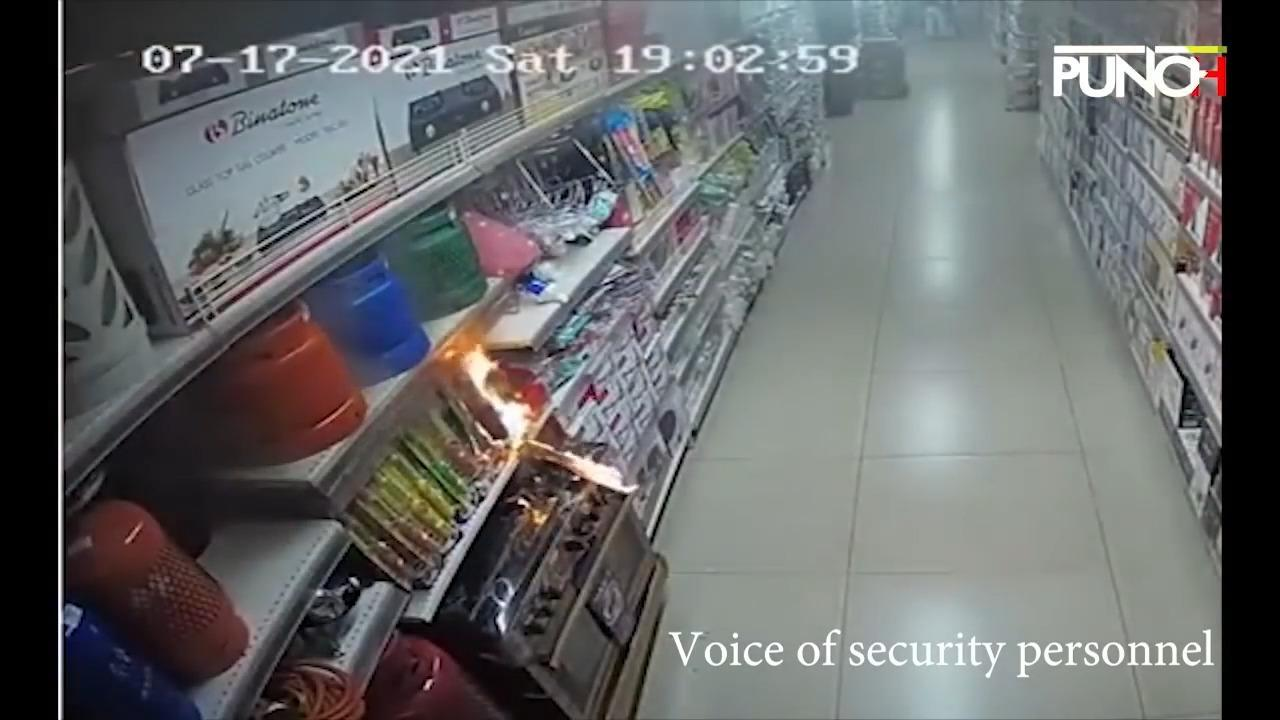fire: (445, 342, 531, 446)
